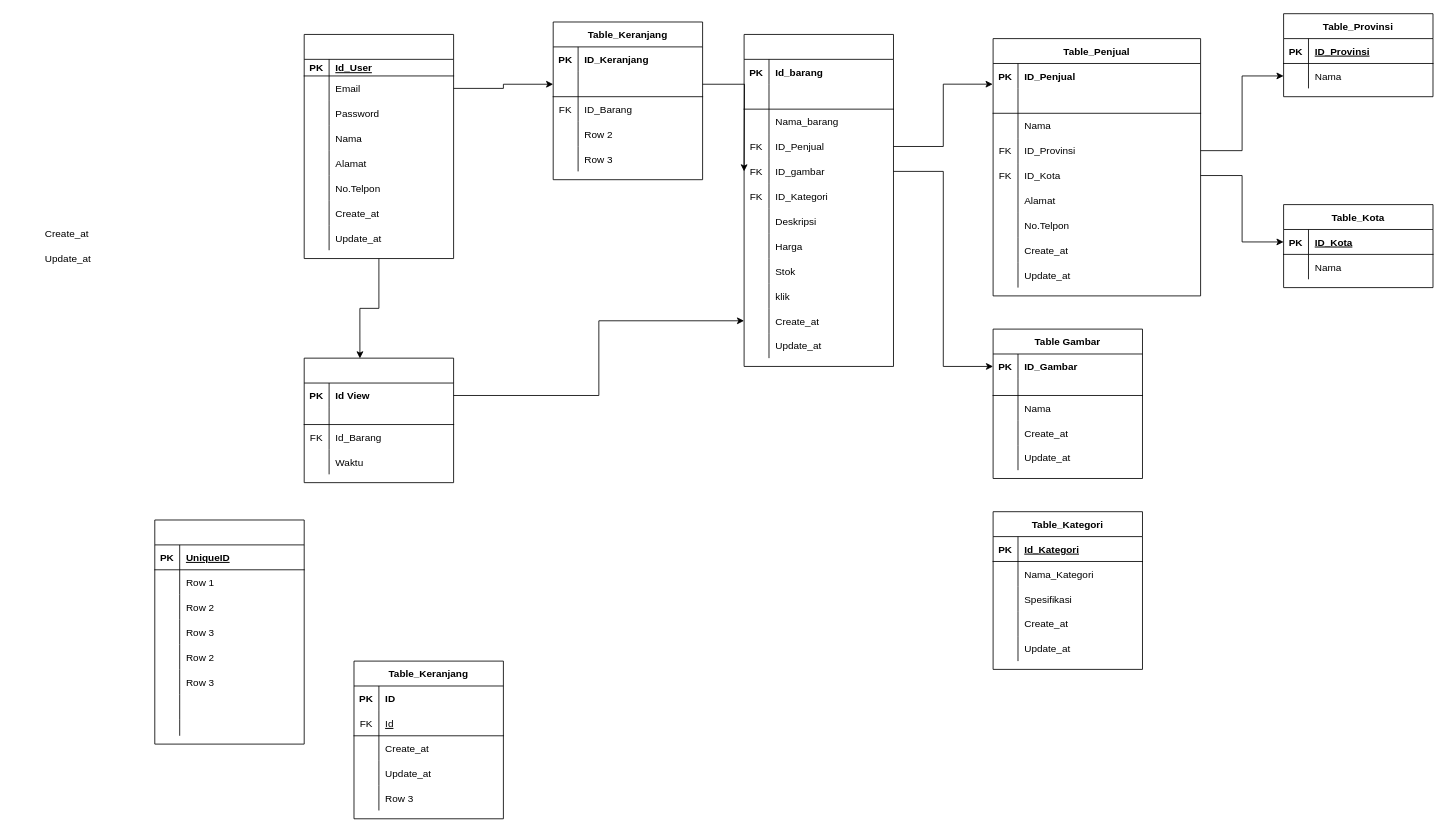
Some shapes in this 1447 by 832 pixel diagram are drawn without their labels. The shapes that lost their labels are listed below. From the top down, each one's box as (x1, y1, x2, y2) in pixels, then its label:
(303, 34, 454, 259): Table_User
(743, 34, 893, 366): Table_Barang
(303, 357, 454, 483): Table View_Detail
(154, 519, 304, 744): Table
